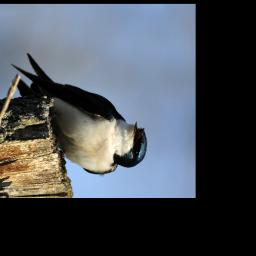Swallow: (9, 47, 148, 179)
